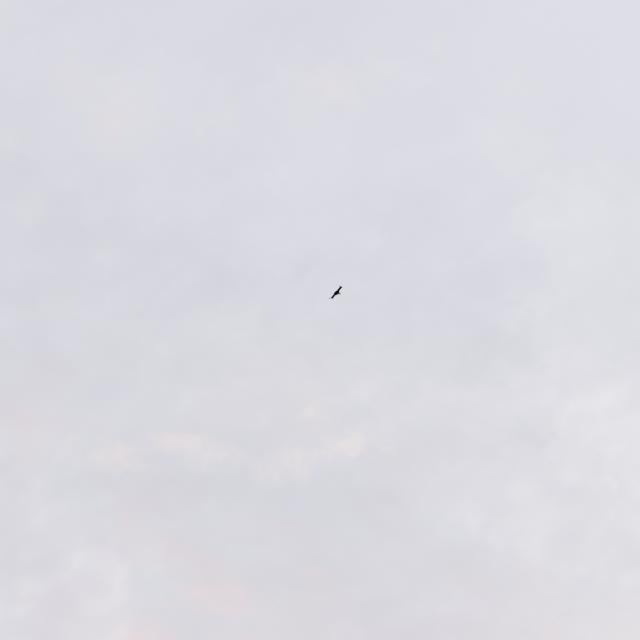Airaplan: (329, 286, 343, 300)
